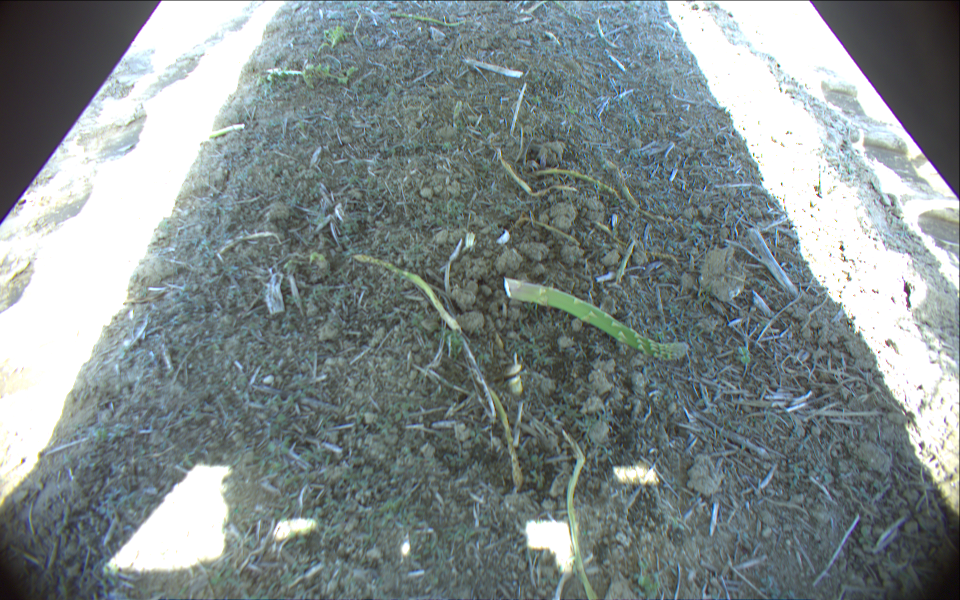aspa: (503, 278, 692, 363), (355, 255, 460, 335), (562, 432, 598, 600), (484, 384, 525, 490), (620, 171, 681, 230), (532, 166, 620, 195), (388, 12, 468, 29), (188, 124, 246, 143), (617, 240, 636, 280), (547, 1, 583, 20)
